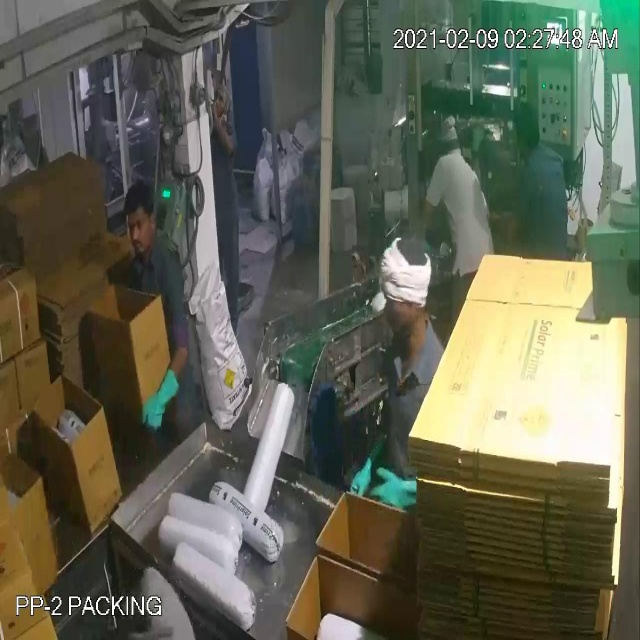Guantes: (136, 358, 182, 440), (372, 457, 425, 526), (337, 440, 388, 503)
Sin_guantes: (210, 98, 239, 169)
